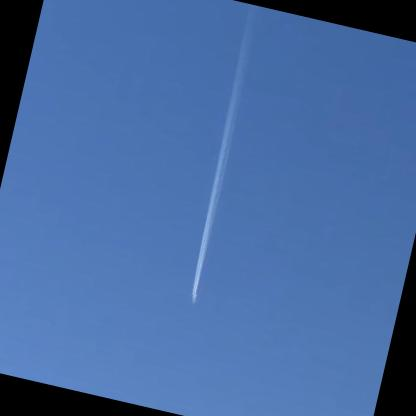plane: (188, 294, 199, 308)
